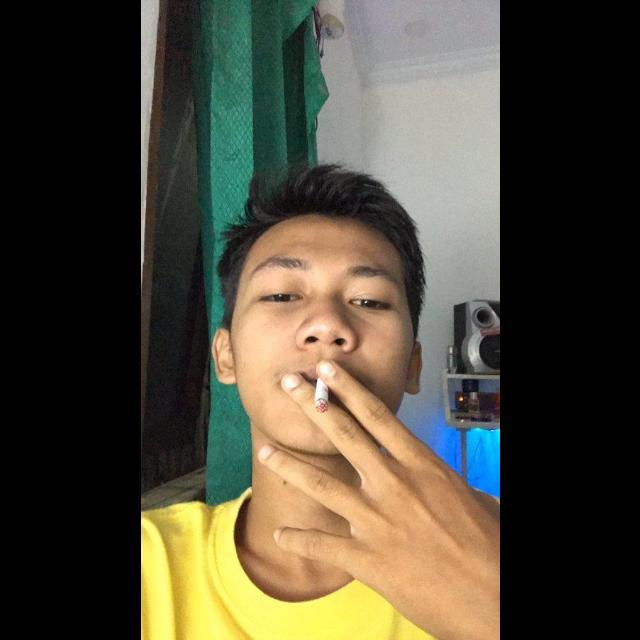rokok: (302, 354, 340, 422)
